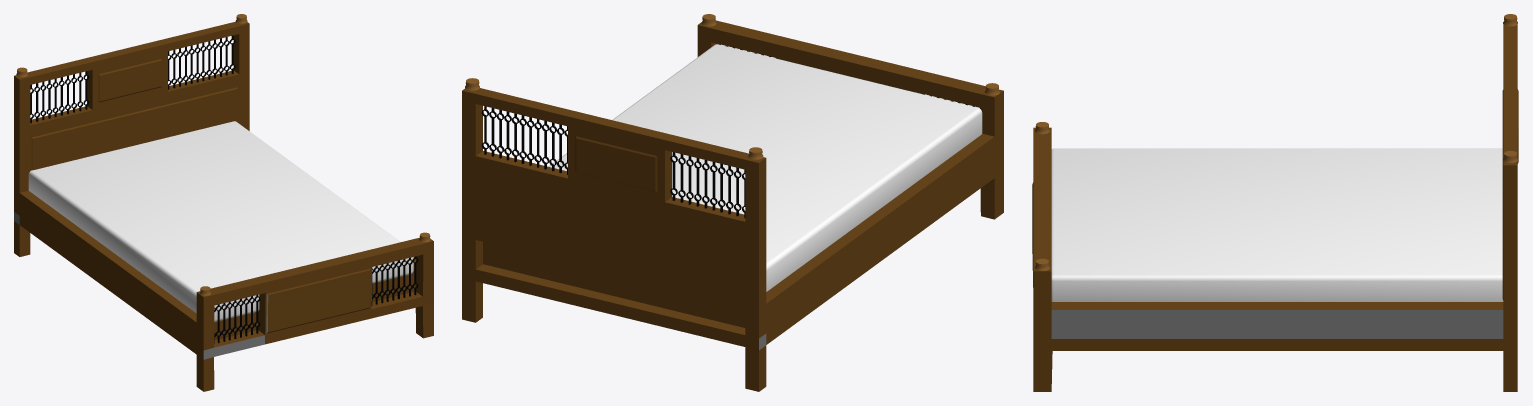
The model's file is Bed.fbx.
3 renders of one model, left to right at view 1: azimuth 30°, elevation 25°; view 2: azimuth 150°, elevation 25°; view 3: azimuth 270°, elevation 25°, orthographic. The views are drawn at different scales.
Parts seen in each view (by area): view 1: Bed, Matress; view 2: Bed, Matress; view 3: Matress, Bed.
Part boxes in pixels (left/top/right/bottom): Bed: left=14, top=21, right=433, bottom=391; Matress: left=28, top=121, right=413, bottom=321; Bed: left=462, top=20, right=1003, bottom=391; Matress: left=548, top=44, right=982, bottom=291; Matress: left=1051, top=148, right=1503, bottom=301; Bed: left=1032, top=24, right=1518, bottom=391.
Bounding box in the file's own units: 194 × 148 × 278.
